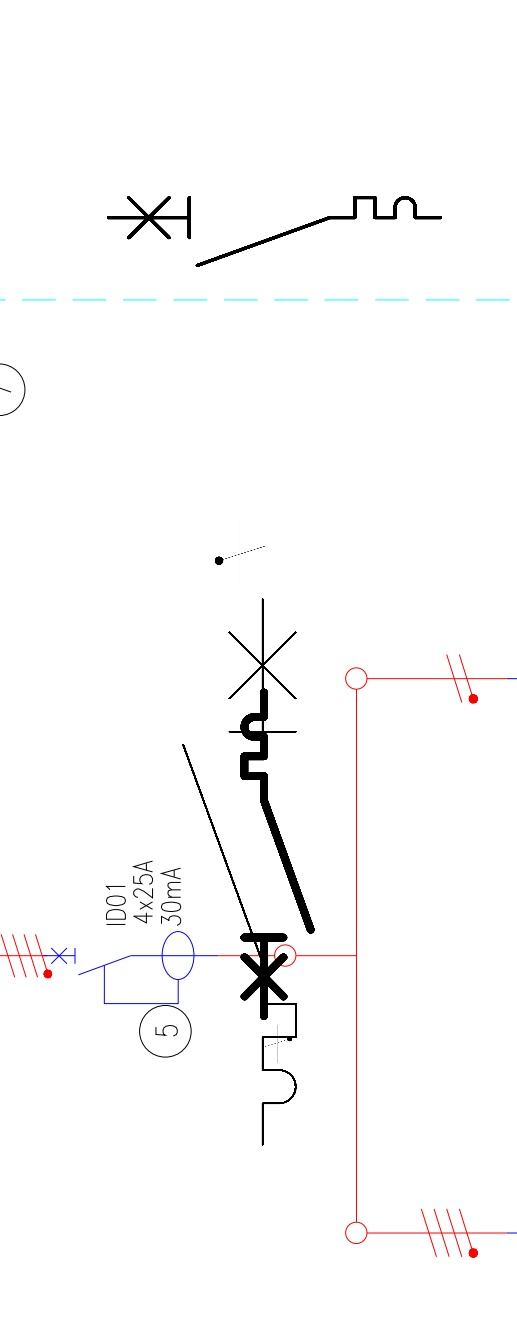interruptor_termomagnetico: (169, 584, 310, 1158), (100, 189, 449, 274), (236, 684, 319, 1025)
